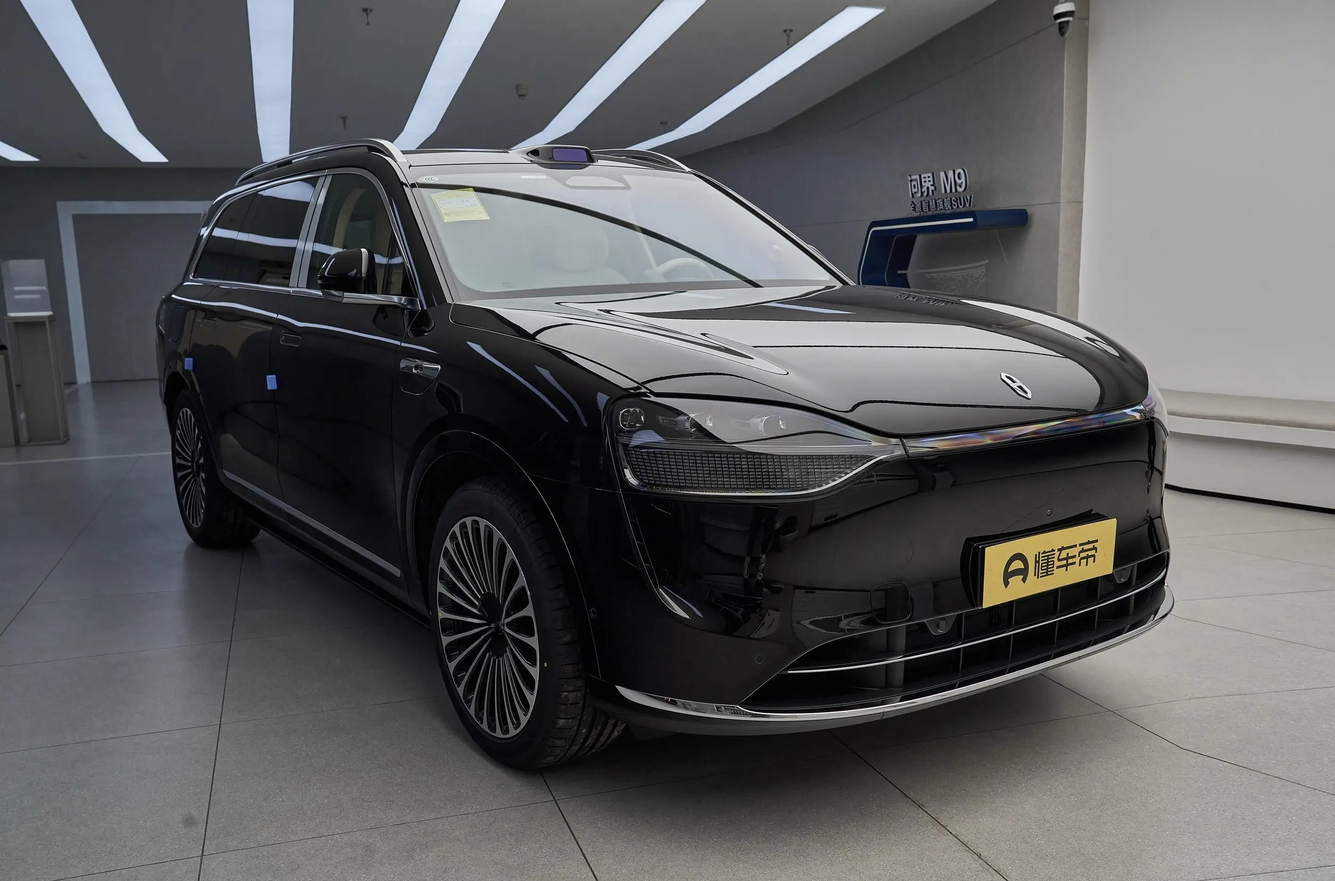AITO: (1001, 373, 1031, 399)
